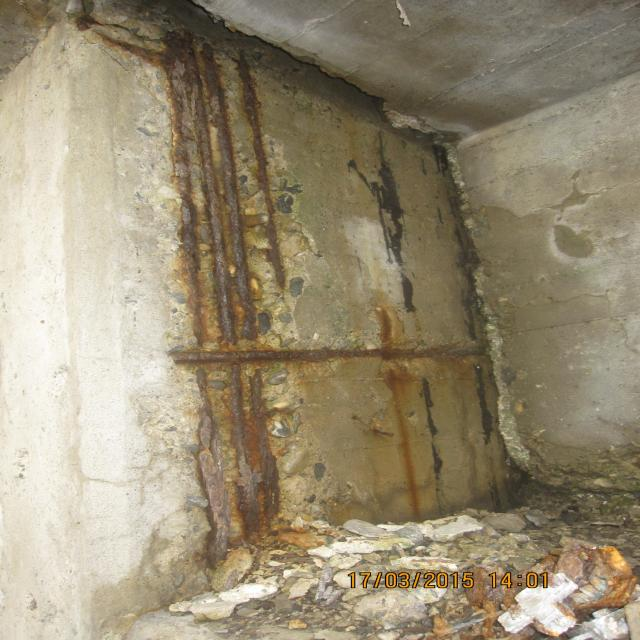corrosion: (161, 83, 324, 566), (326, 302, 543, 524), (434, 533, 636, 640), (71, 4, 284, 83)
